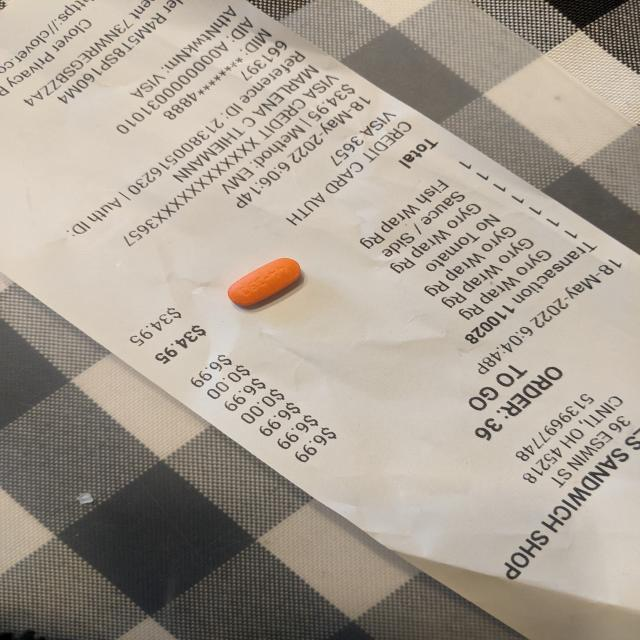non-organic waste: (226, 257, 302, 307)
